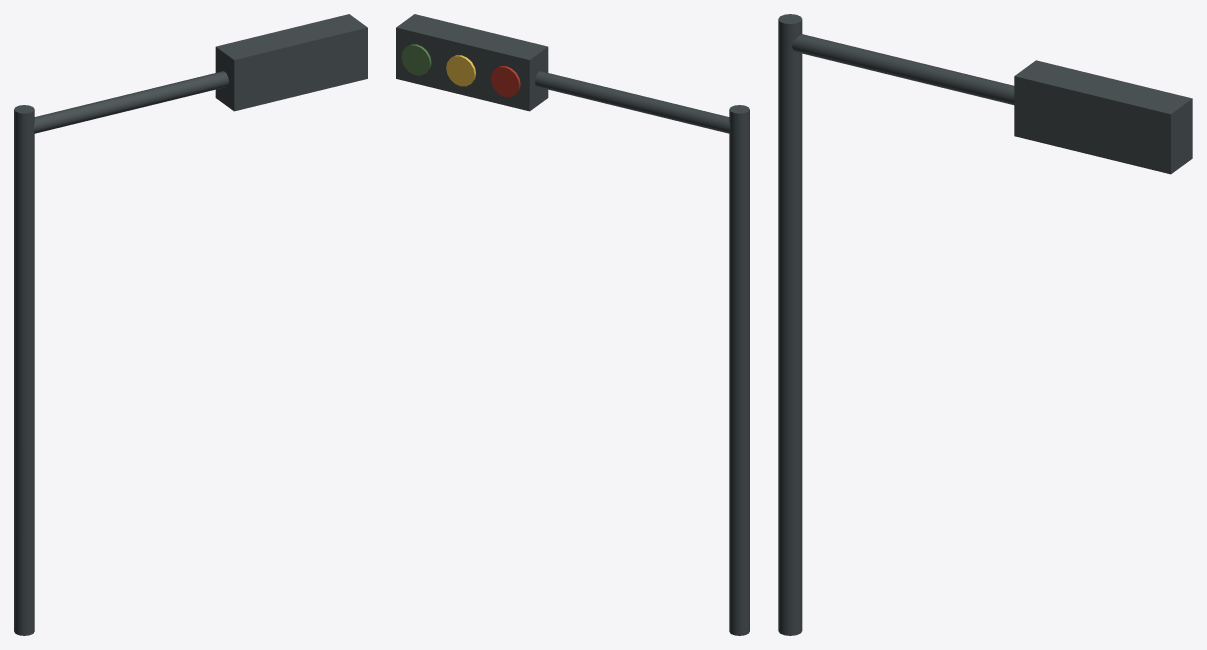
The model's file is traffic_signal.glb.
3 views of the same model, side by side, from view 1: azimuth 30°, elevation 25°; view 2: azimuth 150°, elevation 25°; view 3: azimuth 330°, elevation 25° (orthographic). The views are drawn at different scales.
Parts seen in each view (by area): view 1: traffic_signal; view 2: traffic_signal; view 3: traffic_signal.
Part boxes in pixels (x1,y1,x2,y2): traffic_signal: (14,14,367,635); traffic_signal: (396,14,749,635); traffic_signal: (778,14,1192,635).
Bounding box in the file's own units: 3.85 × 5.68 × 0.41.
